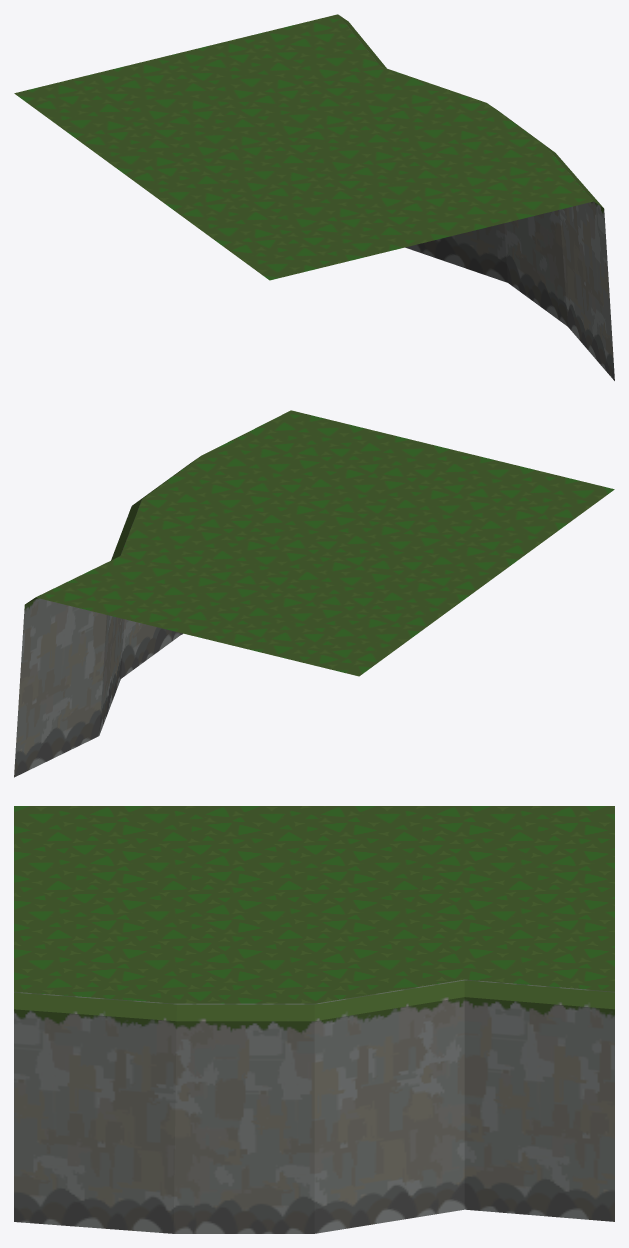
File: chunk_0014.glb
3 views of the same model, one above another, from view 1: azimuth 30°, elevation 25°; view 2: azimuth 150°, elevation 25°; view 3: azimuth 270°, elevation 25° (orthographic). The views are drawn at different scales.
Visible parts, largest first — view 1: chunk_0014; view 2: chunk_0014; view 3: chunk_0014.
Boxes of the visible parts, x1=… form: chunk_0014: x1=14, y1=14, x2=614, y2=380; chunk_0014: x1=14, y1=410, x2=614, y2=777; chunk_0014: x1=14, y1=806, x2=614, y2=1233.
Bounding box in the file's own units: 8.27 × 4 × 10.
2 materials, 2 textured.
